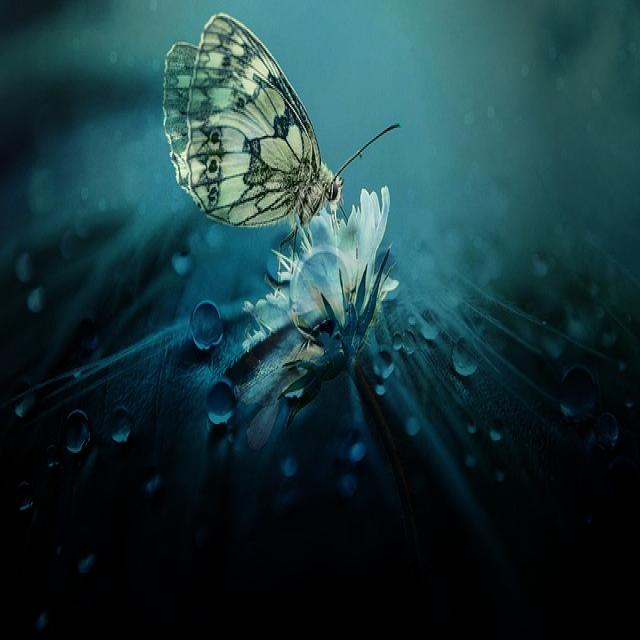butterfly: (162, 13, 341, 232)
